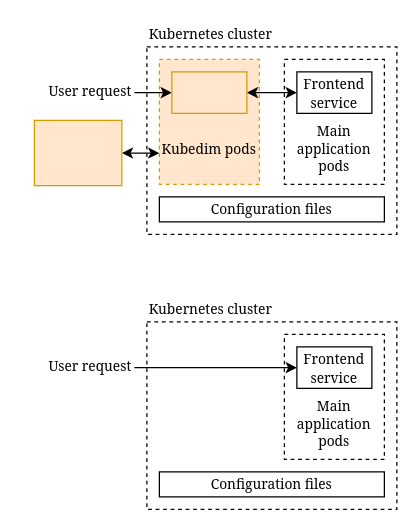
Some shapes in this 419 by 531 pixel diagram are drawn without their labels. The centre of each missing label's shape, as x and y in pixels:
"Dimmer service" goes at (209,92).
"External Kubedim tooling" goes at (77,152).
